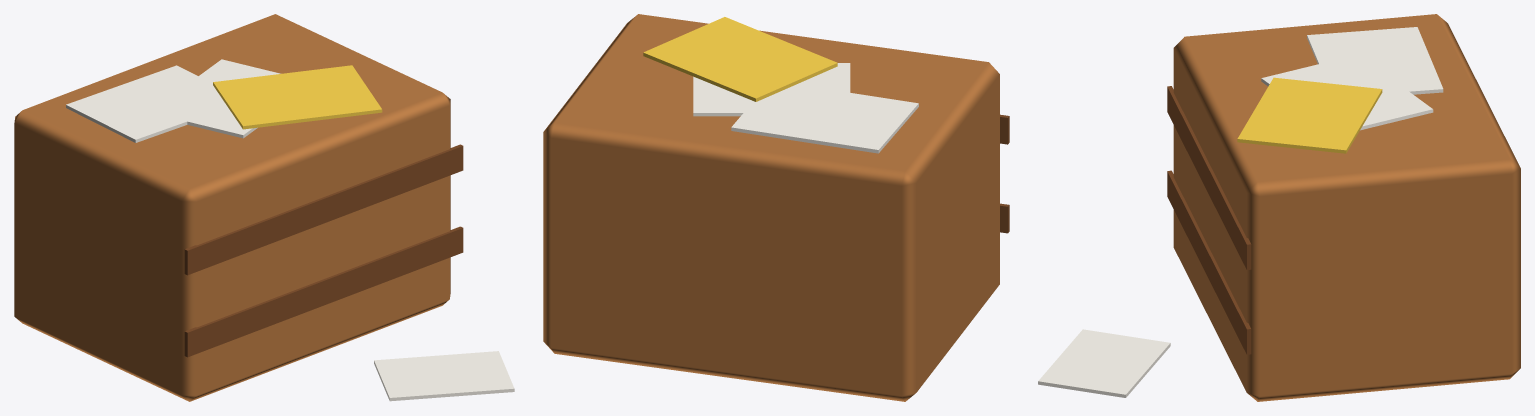
The model's file is station_intake_ausstattung_1_0.glb.
3 renders of one model, left to right at view 1: azimuth 30°, elevation 25°; view 2: azimuth 150°, elevation 25°; view 3: azimuth 270°, elevation 25°, orthographic. The views are drawn at different scales.
Parts seen in each view (by area): view 1: station_intake_ausstattung_1_0; view 2: station_intake_ausstattung_1_0; view 3: station_intake_ausstattung_1_0.
Boxes of the visible parts, x1,y1,x2,y2 form: station_intake_ausstattung_1_0: (14, 14, 514, 401); station_intake_ausstattung_1_0: (543, 14, 1009, 401); station_intake_ausstattung_1_0: (1038, 14, 1520, 401).
Bounding box in the file's own units: 0.4568 × 0.269 × 0.5167.
